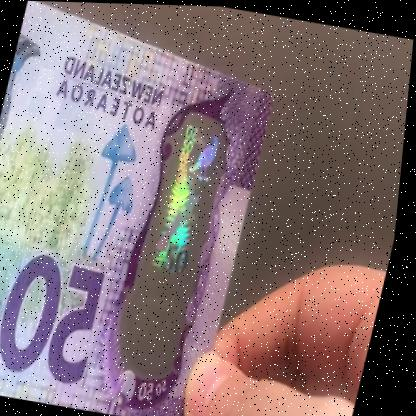50B: (130, 114, 229, 360)
